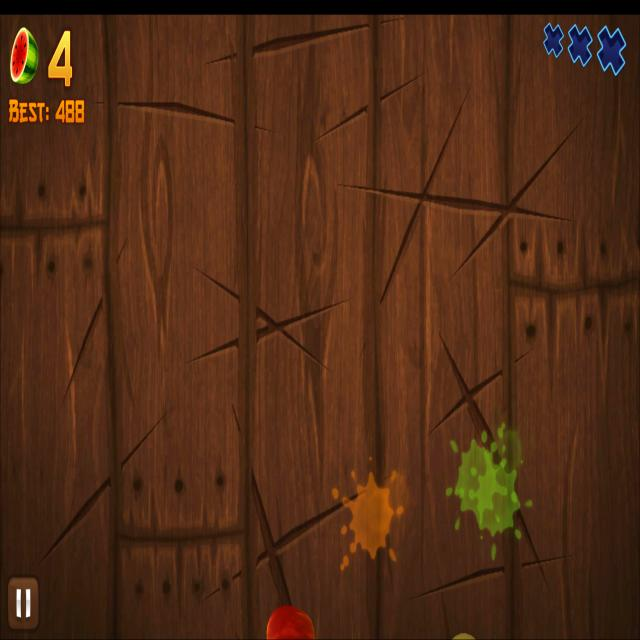fruit: (265, 602, 316, 640)
